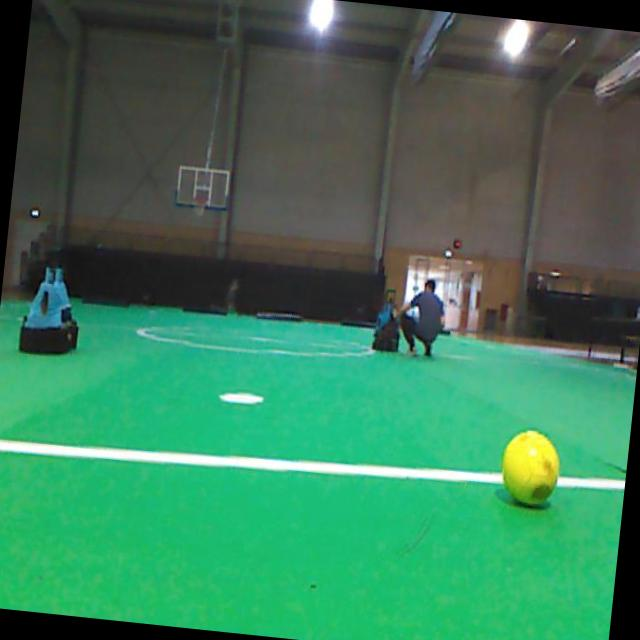ball: (502, 429, 558, 504)
